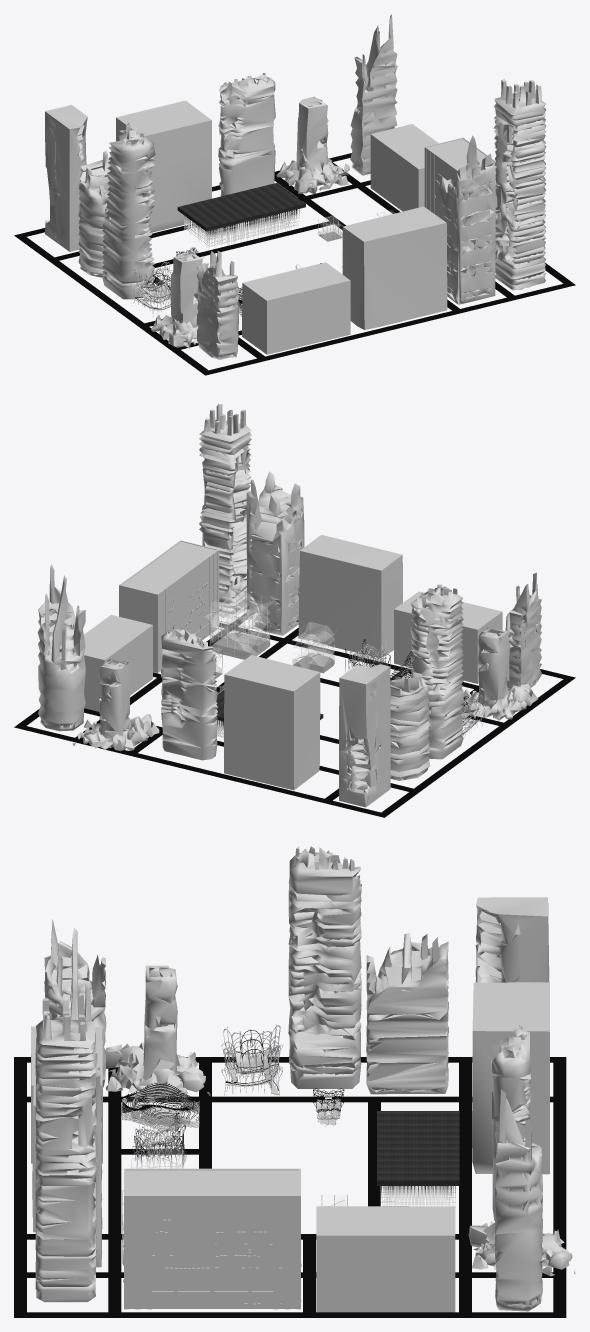
File: BLACKCITY-v3.glb
3 views of the same model, one above another, from view 1: azimuth 30°, elevation 25°; view 2: azimuth 150°, elevation 25°; view 3: azimuth 270°, elevation 25° (orthographic). The views are drawn at different scales.
Parts seen in each view (by area): view 1: Merged Objects 5, BLACK CITY opti, Mesh_1, vert, horiz, r2, Corner %43; view 2: Merged Objects 5, BLACK CITY opti, 8, gf, column, gfaccde; view 3: Merged Objects 5, BLACK CITY opti, Mesh_1, r2, P3, Corner %43, horiz, vert, 8, R3, P2, R1 (+1 smaller).
Part boxes in pixels (x1,y1,x2,y2): Merged Objects 5: (45, 14, 546, 359); BLACK CITY opti: (14, 153, 575, 375); Mesh_1: (177, 183, 305, 231); vert: (184, 209, 299, 249); horiz: (184, 209, 299, 246); r2: (134, 262, 242, 316); Corner %43: (135, 282, 170, 310); Merged Objects 5: (37, 404, 541, 807); BLACK CITY opti: (14, 604, 575, 817); 8: (204, 589, 334, 693); gf: (210, 633, 334, 679); column: (210, 589, 325, 691); gfaccde: (210, 625, 334, 677); Merged Objects 5: (31, 846, 575, 1312); BLACK CITY opti: (14, 1057, 566, 1317); Mesh_1: (377, 1111, 459, 1185); r2: (121, 1024, 280, 1129); P3: (122, 1030, 344, 1132); Corner %43: (225, 1050, 340, 1124); horiz: (380, 1186, 455, 1207); vert: (381, 1186, 455, 1212); 8: (122, 1149, 347, 1254); R3: (122, 1094, 339, 1145); P2: (132, 1108, 340, 1164); R1: (134, 1125, 186, 1168).
Size of the model in its own units: 380 by 199 by 346.
16 materials, 4 textured.
